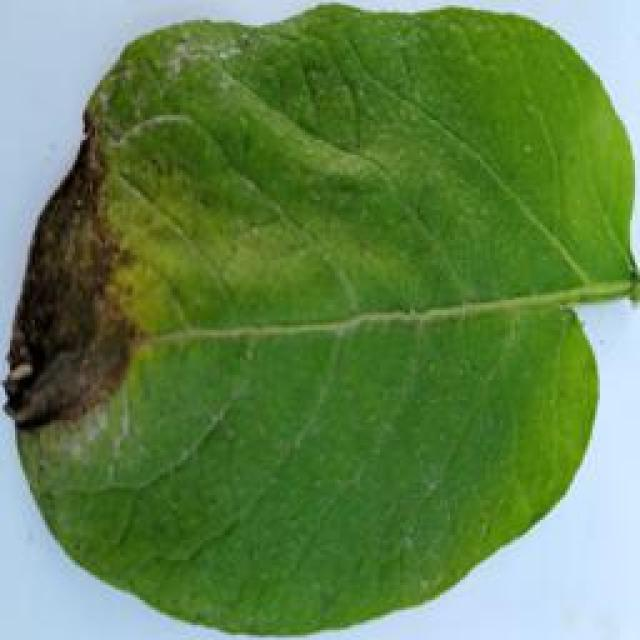Potato_Late_Blight: (5, 7, 627, 637)
